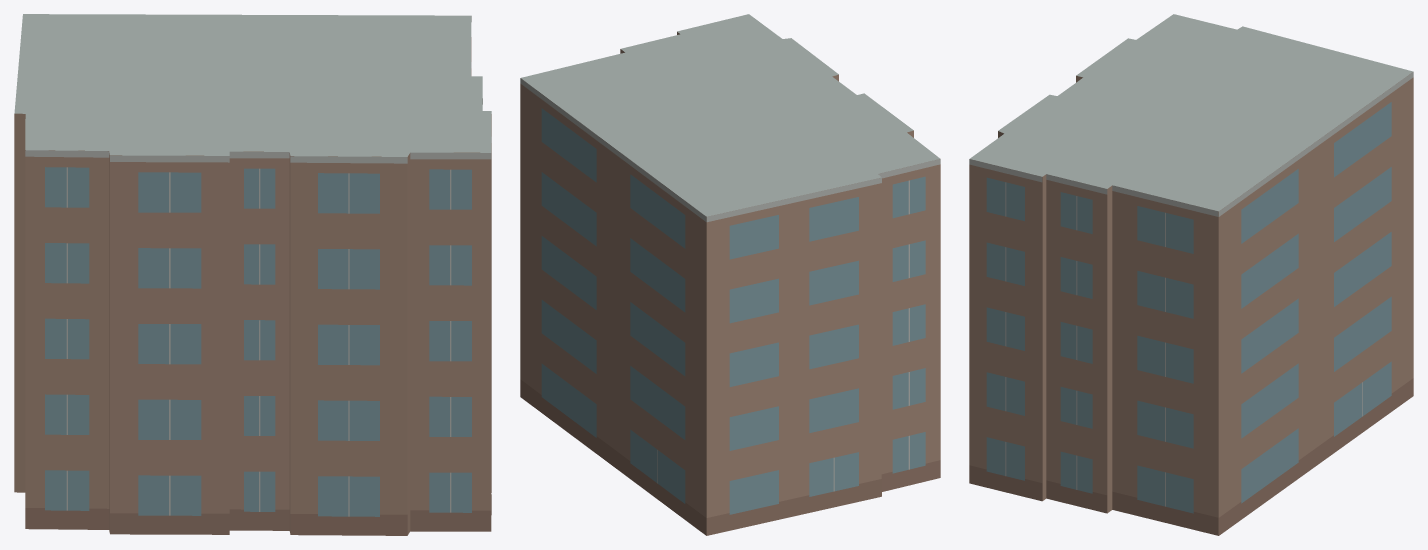
The model's file is survey-upis-32654087.glb.
The picture shows the model from 3 angles, left to right: view 1: azimuth 30°, elevation 25°; view 2: azimuth 150°, elevation 25°; view 3: azimuth 270°, elevation 25°; orthographic projection. The views are drawn at different scales.
Parts seen in each view (by area): view 1: survey-upis-32654087.tmp; view 2: survey-upis-32654087.tmp; view 3: survey-upis-32654087.tmp.
Boxes of the visible parts, x1=… form: survey-upis-32654087.tmp: x1=14, y1=14, x2=491, y2=535; survey-upis-32654087.tmp: x1=520, y1=14, x2=940, y2=535; survey-upis-32654087.tmp: x1=969, y1=14, x2=1413, y2=535.
Bounding box in the file's own units: 18.28 × 14 × 17.37.
